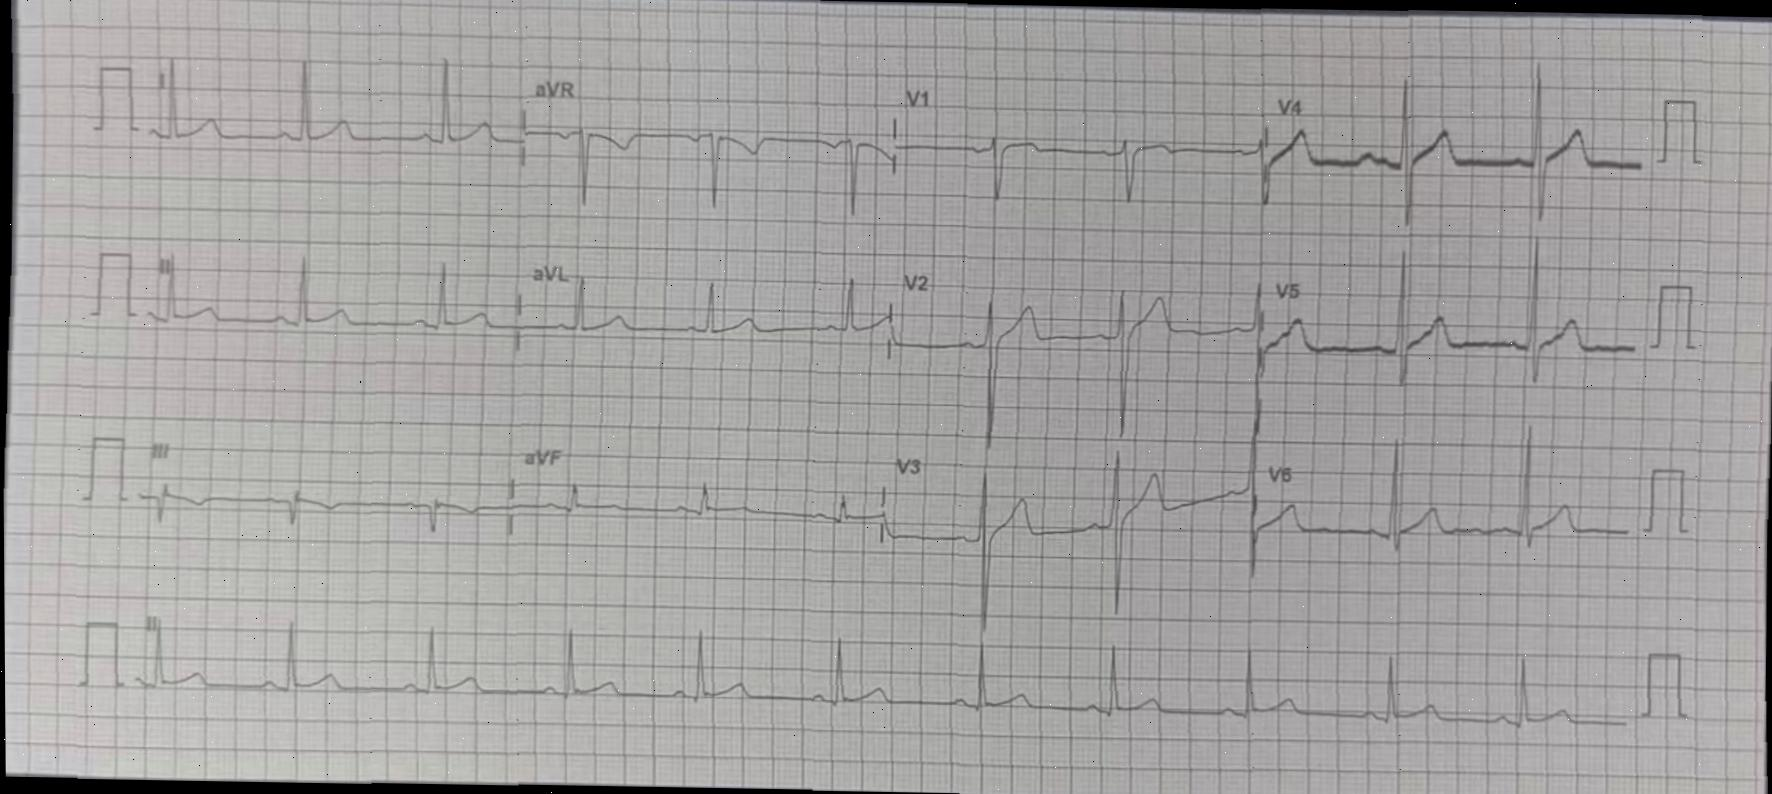Lead_I: (133, 41, 523, 190)
Lead_II: (139, 243, 518, 367)
Lead_III: (136, 422, 514, 560)
Lead_II_ext: (130, 601, 1631, 750)
Lead_V1: (894, 66, 1269, 233)
Lead_V2: (893, 253, 1261, 462)
Lead_V3: (888, 430, 1259, 648)
Lead_V4: (1265, 37, 1656, 247)
Lead_V5: (1258, 230, 1645, 422)
Lead_V6: (1251, 405, 1640, 604)
Lead_aVF: (512, 422, 884, 564)
Lead_aVL: (515, 250, 889, 387)
Lead_aVR: (520, 61, 898, 236)
